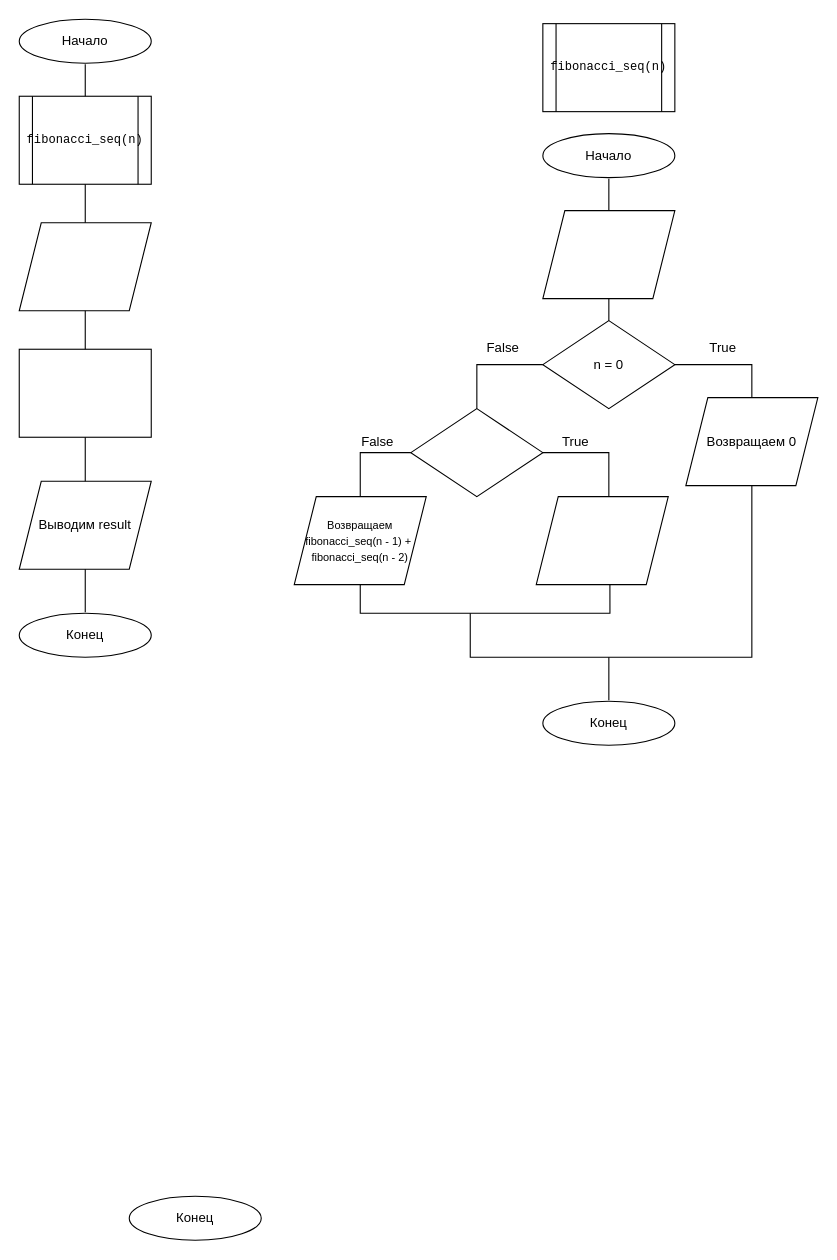
The diagram is 837 pixels wide and 1260 high, and some of its shapes have lost their labels. The shapes that lost their labels are listed below. From the top down, each one's box as (x1, y1, x2, y2) in pixels, then its label:
(18, 222, 151, 311): Вводим число N
(542, 210, 675, 299): Получаем число n
(18, 348, 151, 437): result = fibonacci_seq(N)
(410, 408, 543, 497): n = 1
(535, 496, 668, 585): Возвращаем 1
